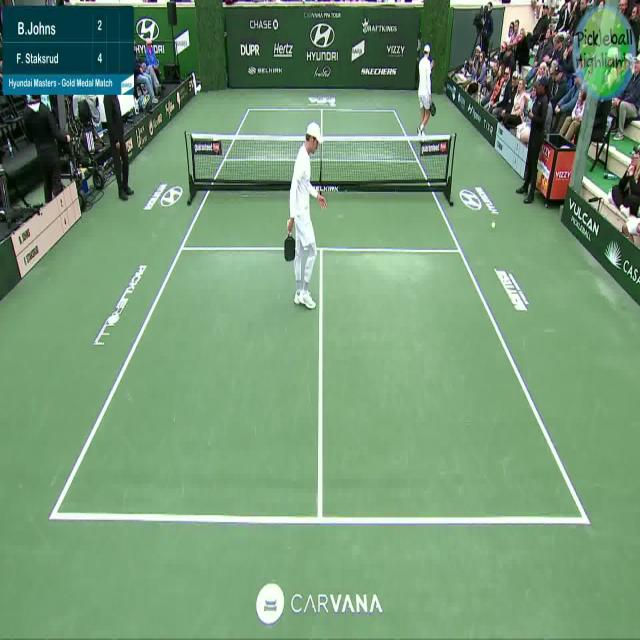Court: (51, 109, 585, 520)
ball: (490, 219, 499, 232)
